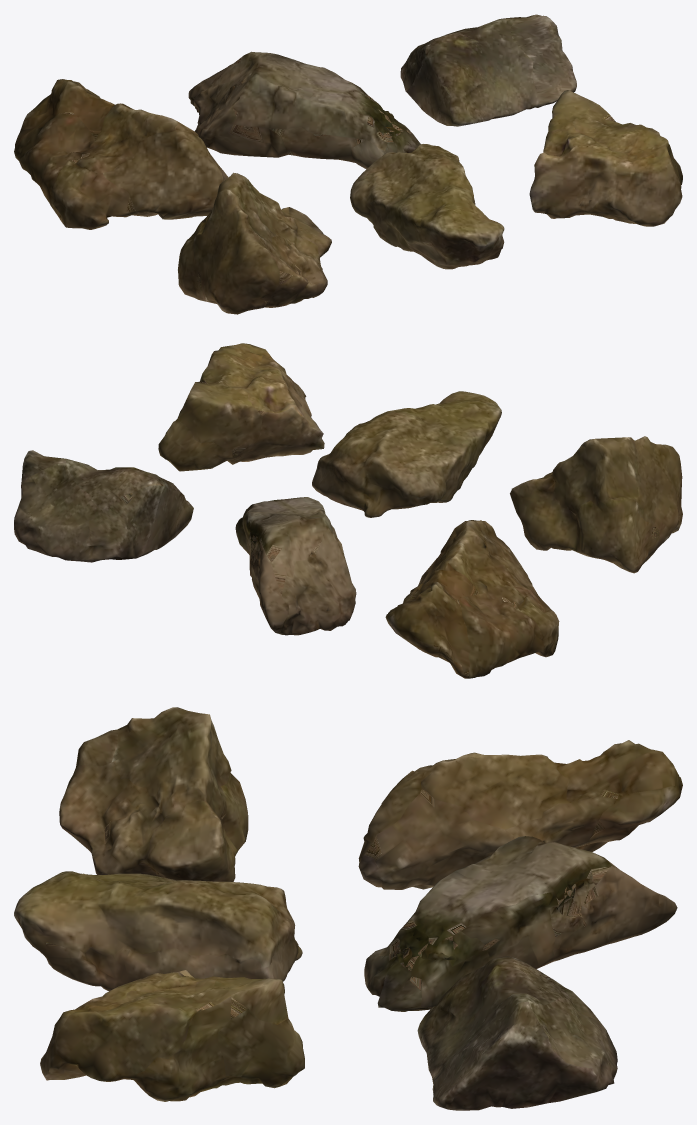
The model's file is rock_moss_set_01.glb.
3 renders of one model, top to bottom at view 1: azimuth 30°, elevation 25°; view 2: azimuth 150°, elevation 25°; view 3: azimuth 270°, elevation 25°, orthographic. The views are drawn at different scales.
Visible parts, largest first — view 1: rock_moss_set_01_rock01, rock_moss_set_01_rock02, rock_moss_set_01_rock06, rock_moss_set_01_rock04, rock_moss_set_01_rock03, rock_moss_set_01_rock05; view 2: rock_moss_set_01_rock04, rock_moss_set_01_rock01, rock_moss_set_01_rock05, rock_moss_set_01_rock03, rock_moss_set_01_rock06, rock_moss_set_01_rock02; view 3: rock_moss_set_01_rock01, rock_moss_set_01_rock02, rock_moss_set_01_rock05, rock_moss_set_01_rock04, rock_moss_set_01_rock06, rock_moss_set_01_rock03.
Boxes of the visible parts, x1,y1,x2,y2 form: rock_moss_set_01_rock01: [14, 79, 228, 229]; rock_moss_set_01_rock02: [188, 51, 420, 169]; rock_moss_set_01_rock06: [529, 90, 682, 226]; rock_moss_set_01_rock04: [178, 172, 331, 314]; rock_moss_set_01_rock03: [400, 14, 576, 126]; rock_moss_set_01_rock05: [350, 144, 504, 269]; rock_moss_set_01_rock04: [510, 436, 682, 573]; rock_moss_set_01_rock01: [385, 520, 559, 678]; rock_moss_set_01_rock05: [312, 391, 501, 517]; rock_moss_set_01_rock03: [14, 450, 193, 562]; rock_moss_set_01_rock06: [158, 343, 324, 471]; rock_moss_set_01_rock02: [235, 497, 356, 635]; rock_moss_set_01_rock01: [358, 740, 682, 889]; rock_moss_set_01_rock02: [364, 836, 677, 1011]; rock_moss_set_01_rock05: [14, 871, 302, 991]; rock_moss_set_01_rock04: [59, 707, 248, 881]; rock_moss_set_01_rock06: [40, 970, 304, 1101]; rock_moss_set_01_rock03: [417, 956, 617, 1110].
Bounding box in the file's own units: 8 × 1.76 × 6.95.
Materials: 1 (1 with a texture image).
